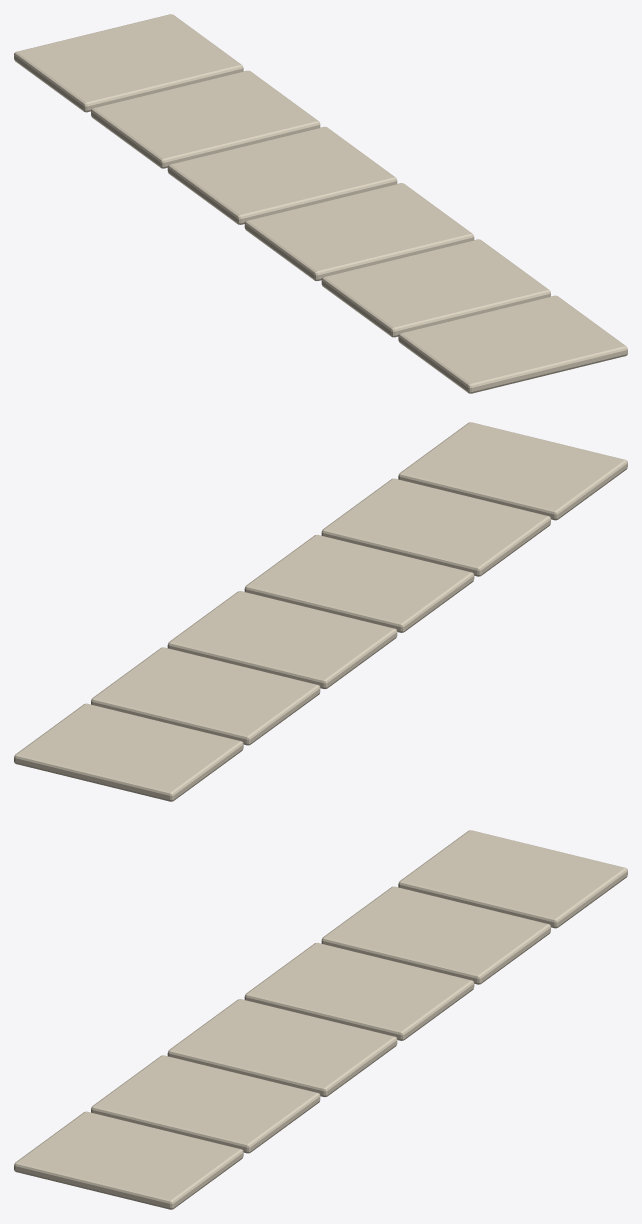
File: garden_path_large.glb
3 views of the same model, one above another, from view 1: azimuth 30°, elevation 25°; view 2: azimuth 150°, elevation 25°; view 3: azimuth 330°, elevation 25° (orthographic).
Visible parts, largest first — view 1: garden_path_large_Mesh; view 2: garden_path_large_Mesh; view 3: garden_path_large_Mesh.
Boxes of the visible parts, x1=… form: garden_path_large_Mesh: x1=14, y1=14, x2=627, y2=393; garden_path_large_Mesh: x1=14, y1=422, x2=627, y2=801; garden_path_large_Mesh: x1=14, y1=830, x2=627, y2=1209.
Bounding box in the file's own units: 1.2 × 0.07 × 5.94.
